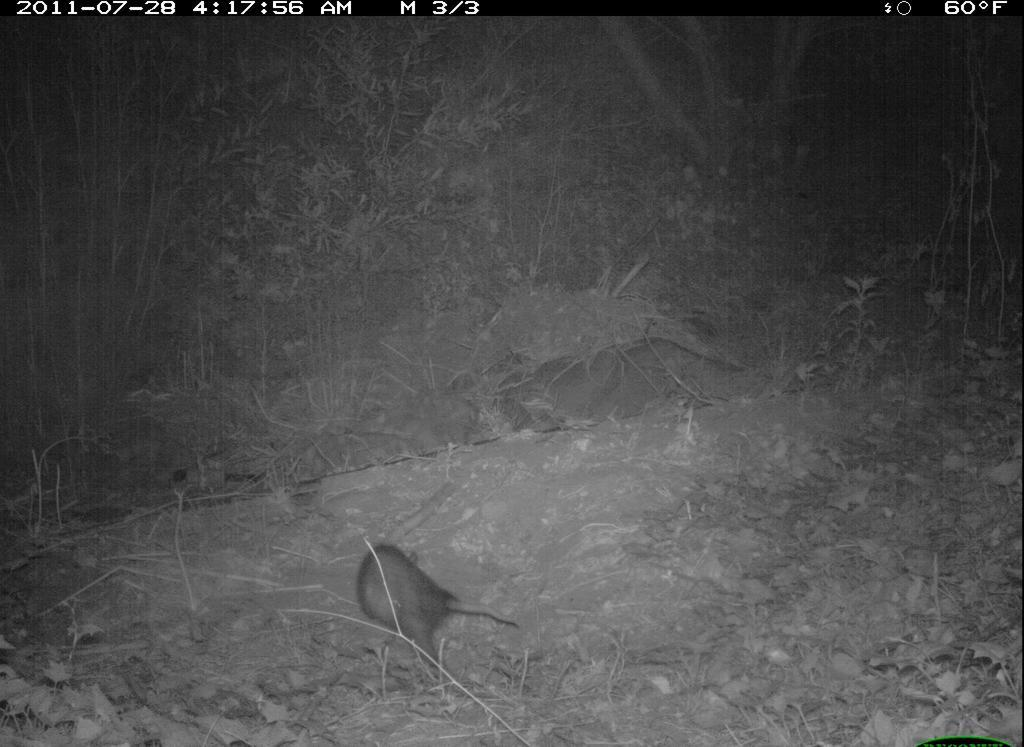opossum: (350, 539, 533, 690)
